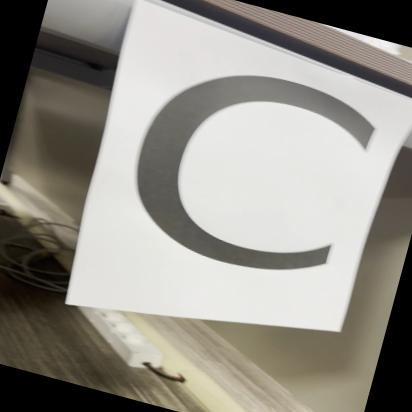seat: (71, 0, 410, 342)
